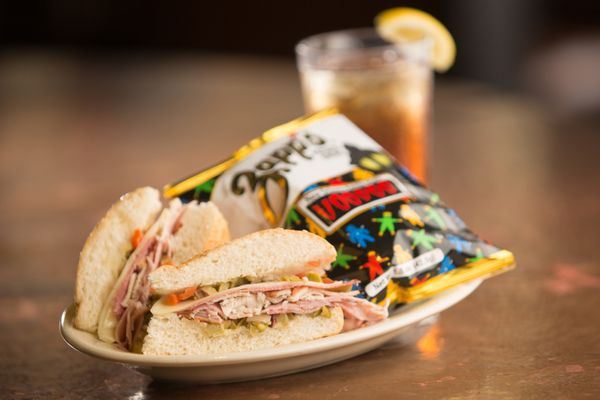pizza: (295, 24, 444, 187)
soup: (130, 227, 387, 360)
